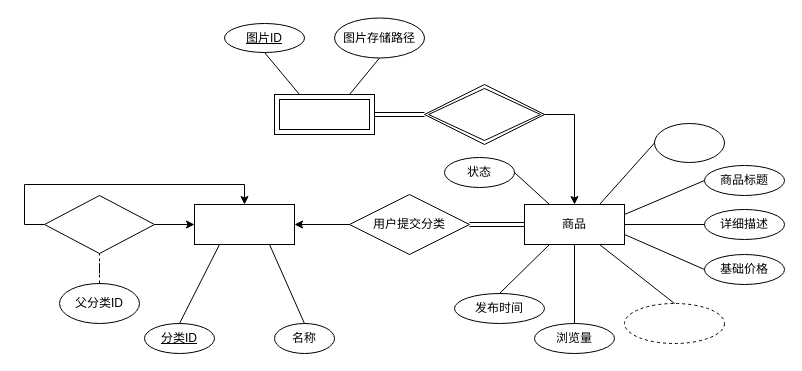
Some shapes in this 802 by 371 pixel diagram are drawn without their labels. The centre of each missing label's shape, as x and y in pixels:
"上传图片" goes at point 484,114.
"分级分类" goes at point 99,224.
"商品ID" goes at point 689,142.
"商品分类" goes at point 244,224.
"商品图片" goes at point 324,114.
"自动下架时间" goes at point 674,323.
